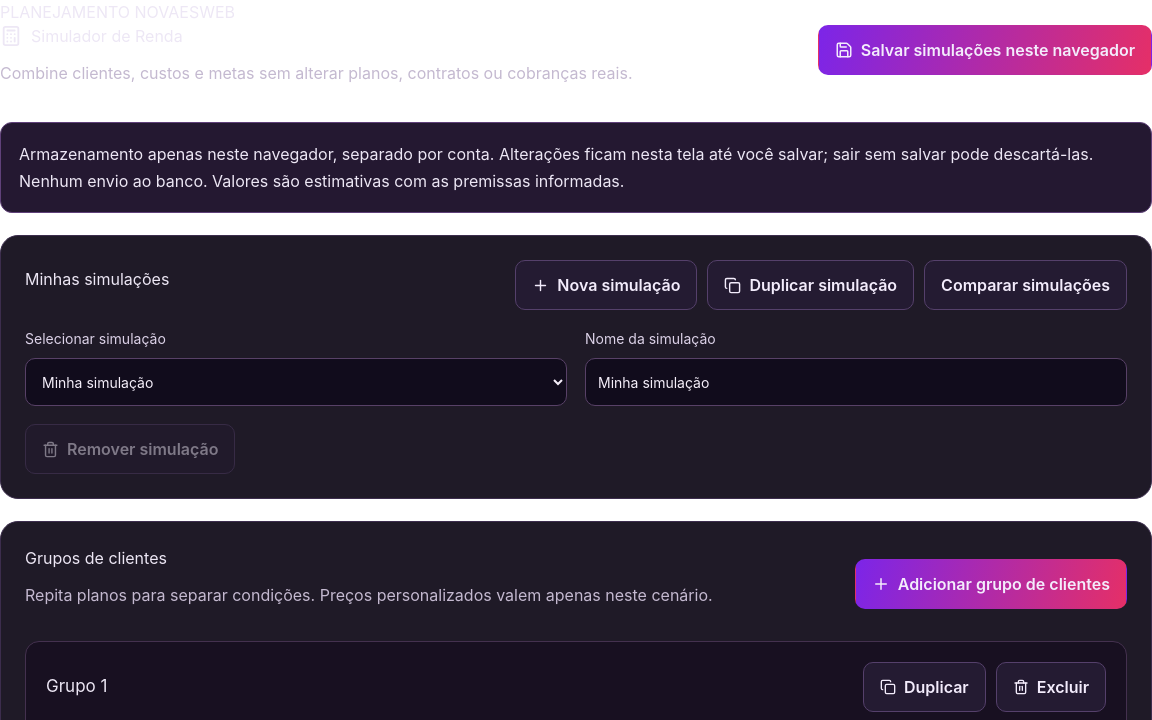
Scenario: Simulador de renda na página financeira › avisa falha de armazenamento sem fingir persistência real
This screenshot has width=1152, height=720.
Click the button "Salvar simulações neste navegador" at (985, 50), box [818,25,1151,75]
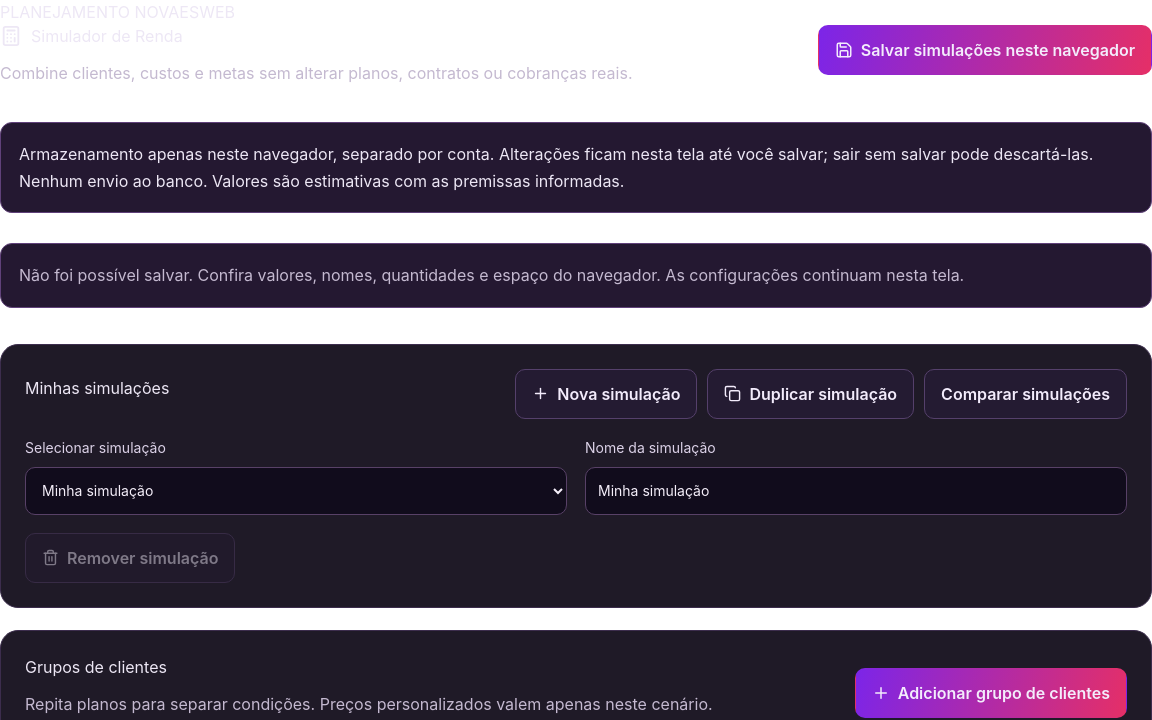
Expected: the message shows "Não foi possível salvar", [19,265,964,285]
